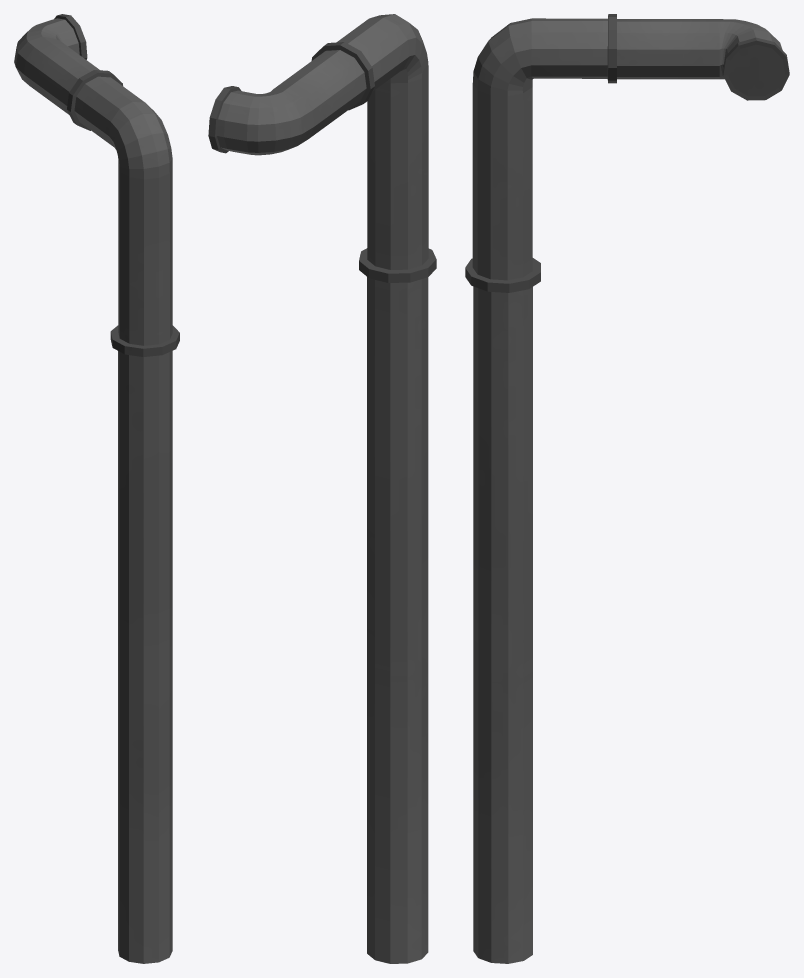
Rendered from Pipes_withUV_3S.fbx.
3 views of the same model, side by side, from view 1: azimuth 30°, elevation 25°; view 2: azimuth 150°, elevation 25°; view 3: azimuth 270°, elevation 25° (orthographic). The views are drawn at different scales.
Parts seen in each view (by area): view 1: Cylinder.003, Cylinder.002, Cylinder.004; view 2: Cylinder.003, Cylinder.002, Cylinder.004; view 3: Cylinder.003, Cylinder.002, Cylinder.004.
Boxes of the visible parts, x1,y1,x2,y2 form: Cylinder.003: [110, 325, 179, 963]; Cylinder.002: [67, 70, 172, 345]; Cylinder.004: [14, 14, 99, 114]; Cylinder.003: [359, 248, 436, 963]; Cylinder.002: [311, 14, 428, 269]; Cylinder.004: [208, 50, 366, 155]; Cylinder.003: [465, 258, 540, 963]; Cylinder.002: [472, 14, 616, 280]; Cylinder.004: [617, 19, 789, 100].
Size of the model in its own units: 66.68 by 752 by 237.
